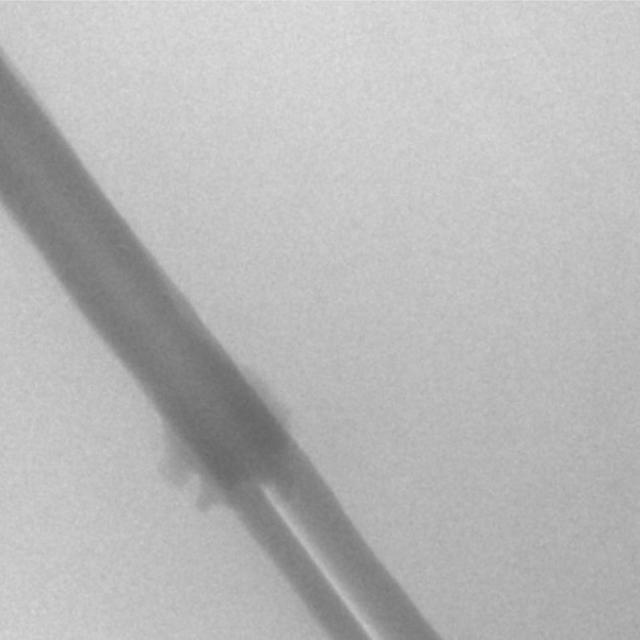broken arc: (259, 479, 381, 637)
